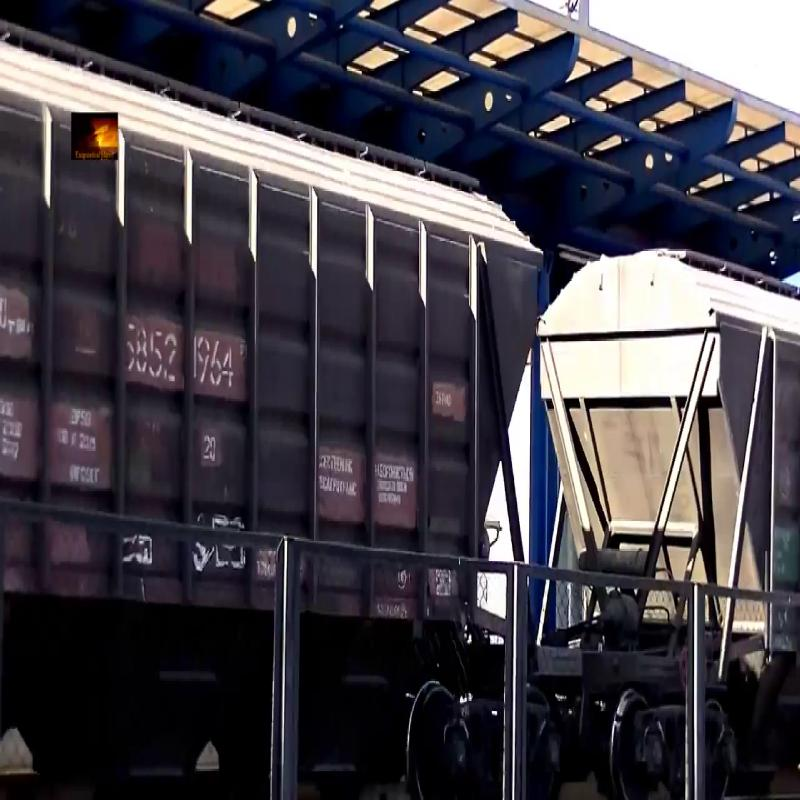train: (1, 34, 571, 780), (581, 38, 800, 777)
